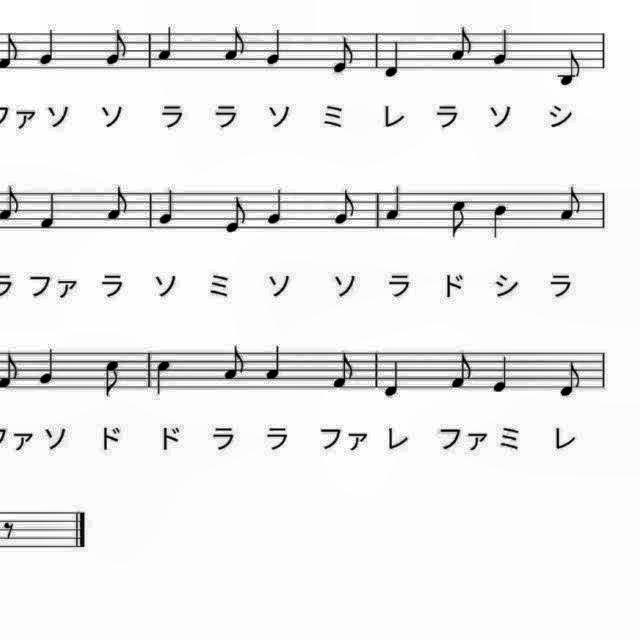Eighth-note: (552, 48, 584, 94), (102, 182, 134, 225), (328, 348, 359, 392), (100, 28, 132, 70), (447, 23, 478, 66), (330, 34, 360, 78), (447, 349, 477, 393), (222, 194, 252, 238), (555, 358, 585, 402), (331, 187, 361, 230), (220, 23, 250, 65), (220, 342, 250, 384), (555, 184, 585, 226), (446, 194, 472, 242), (99, 356, 125, 402), (0, 183, 24, 224), (1, 346, 23, 389), (1, 32, 23, 74)
Eighth-rest: (1, 514, 20, 542)
Quarter-note: (380, 36, 408, 84), (379, 356, 407, 402), (488, 26, 516, 70), (265, 185, 291, 229), (263, 24, 289, 68), (36, 188, 62, 232), (35, 26, 61, 70), (156, 185, 182, 229), (35, 346, 61, 390), (263, 341, 289, 384), (490, 352, 514, 396), (488, 199, 512, 243), (156, 22, 180, 64), (383, 181, 407, 223), (154, 356, 176, 398)
